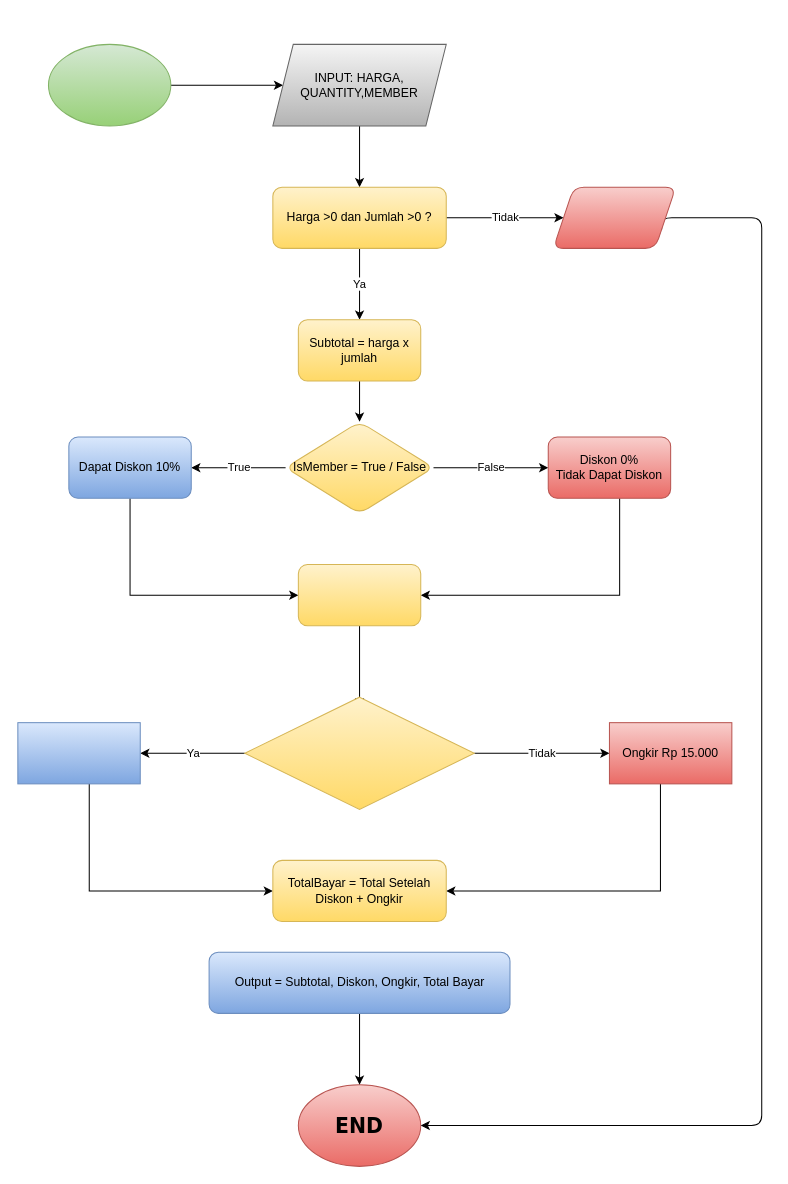
Image size: 788x1184. Some labels were removed from this diagram. Each missing label, with the centre of its shape:
Dapat Gratis Ongkir: point (78, 753)
Output : Input Tidak Valid: point (614, 217)
START: point (109, 84)
Total Setelah Diskon >=250.000 ?: point (359, 752)
TotalSetelahDiskon = Subtotal - Diskon: point (359, 595)
